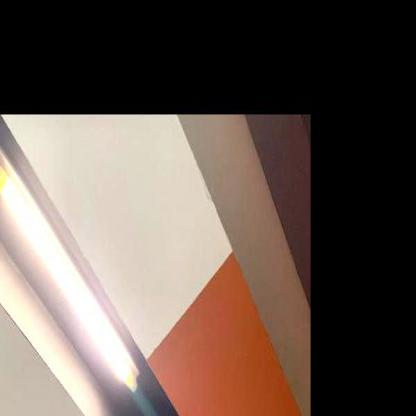light_on: (0, 134, 155, 415)
